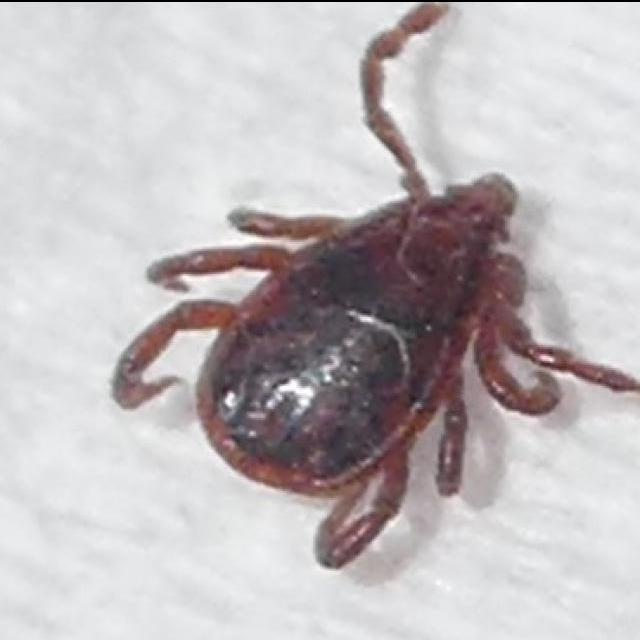Rhipicephalus Sanguineus-M: (109, 0, 640, 571)
